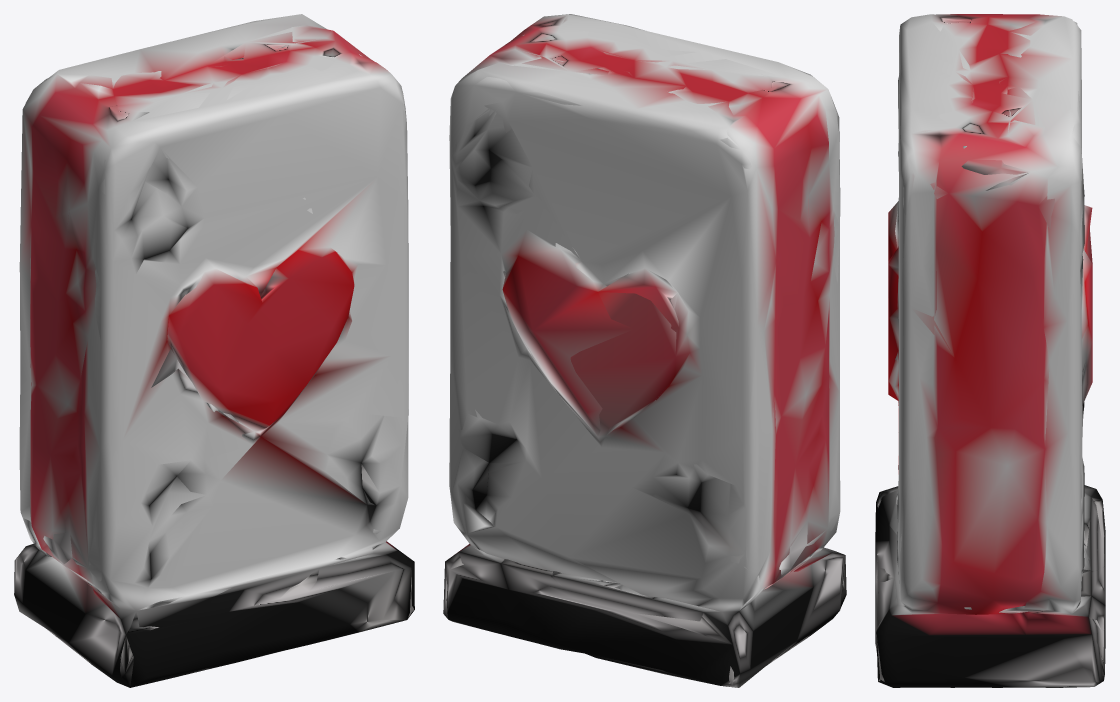
File: gen3d-playing-card-lod0.glb
3 renders of one model, left to right at view 1: azimuth 30°, elevation 25°; view 2: azimuth 150°, elevation 25°; view 3: azimuth 270°, elevation 25°, orthographic.
Visible parts, largest first — view 1: part_0; view 2: part_0; view 3: part_0.
Boxes of the visible parts, x1,y1,x2,y2 form: part_0: [14, 14, 414, 687]; part_0: [443, 14, 846, 687]; part_0: [875, 14, 1105, 687].
Bounding box in the file's own units: 0.6025 × 1 × 0.383.
